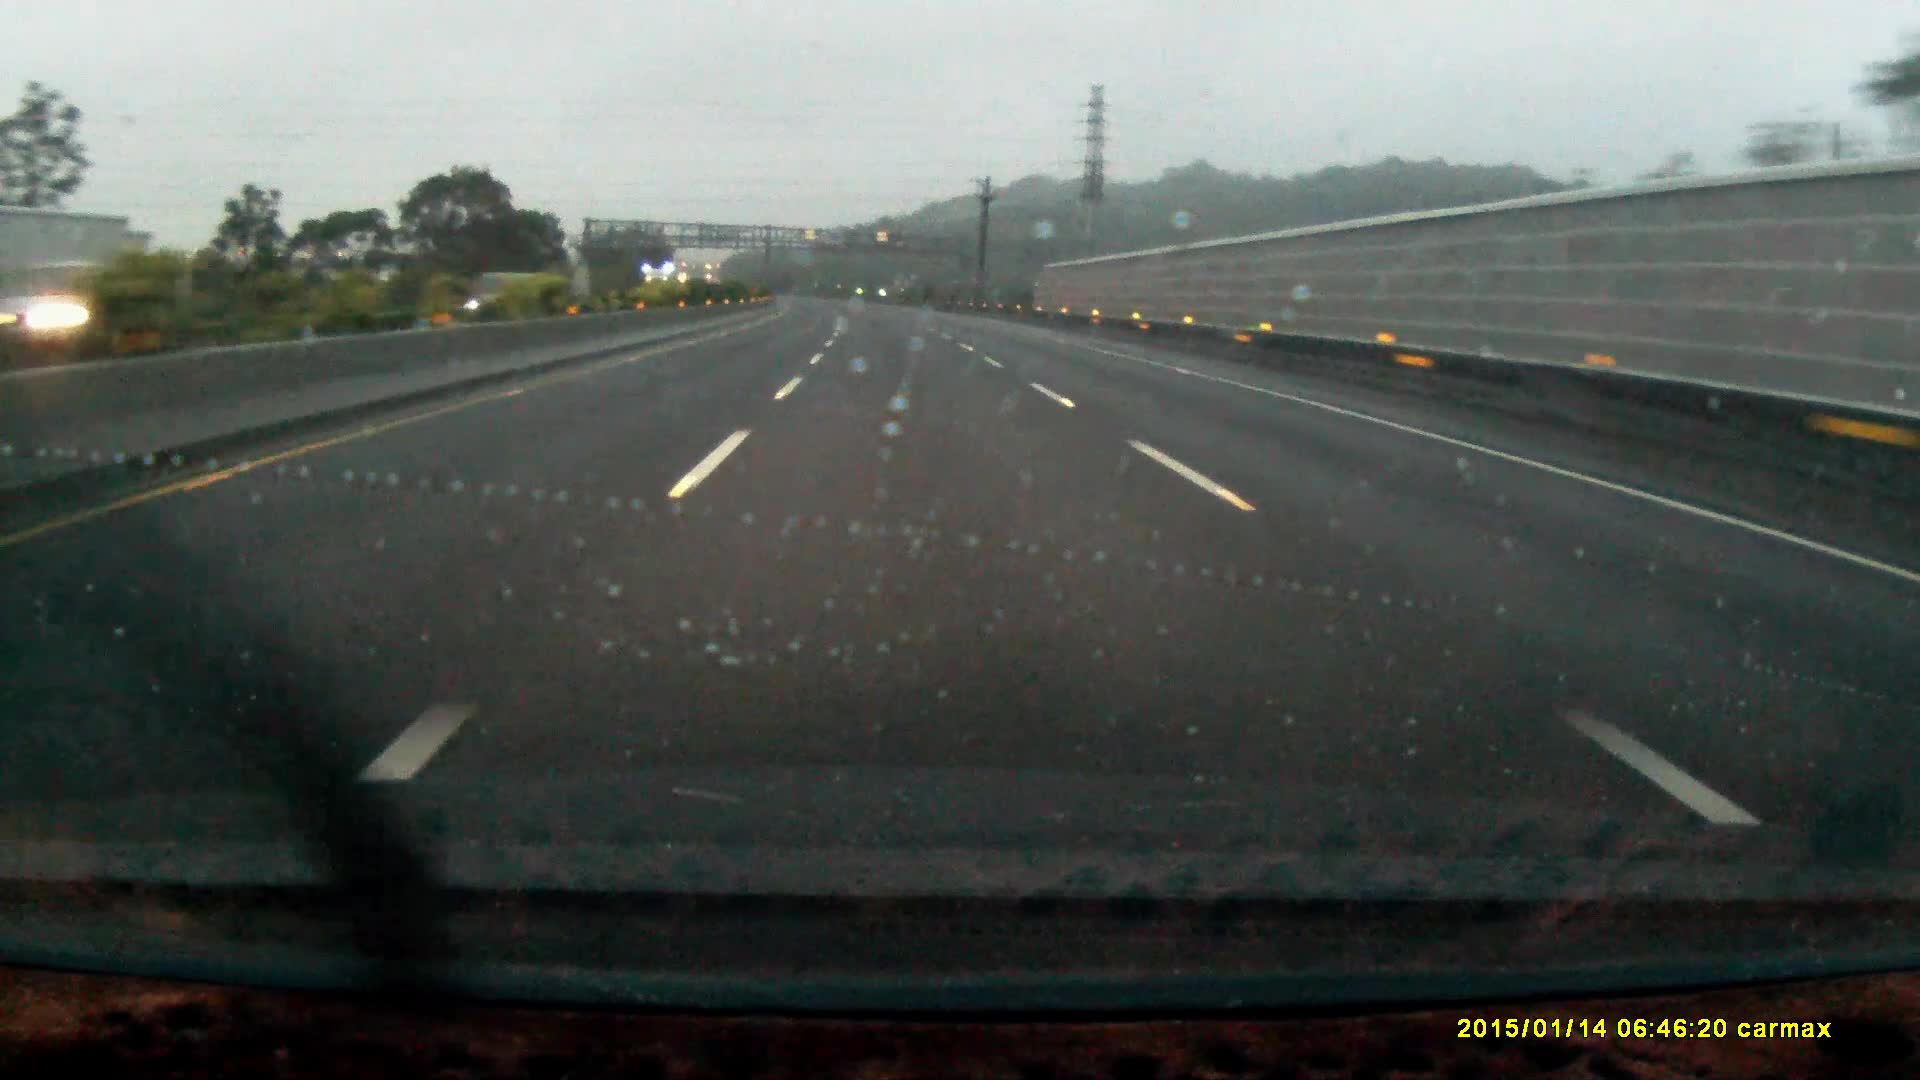vehicle: (418, 272, 506, 320), (645, 264, 687, 306)
